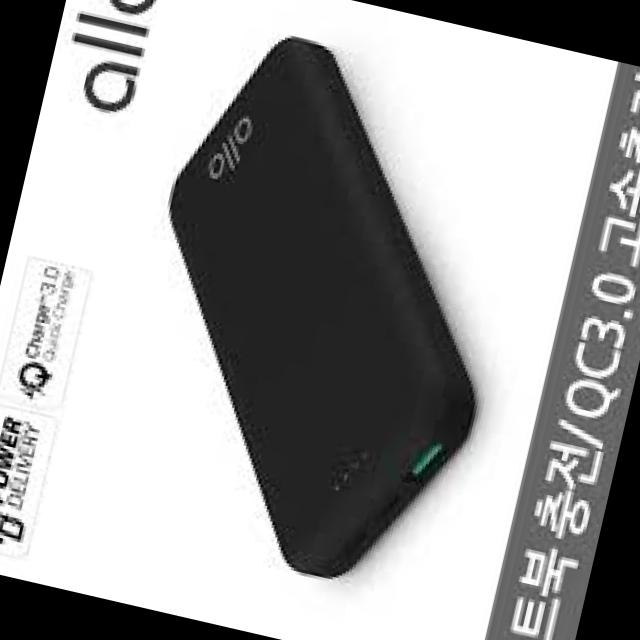portable-charger: (91, 16, 554, 598)
